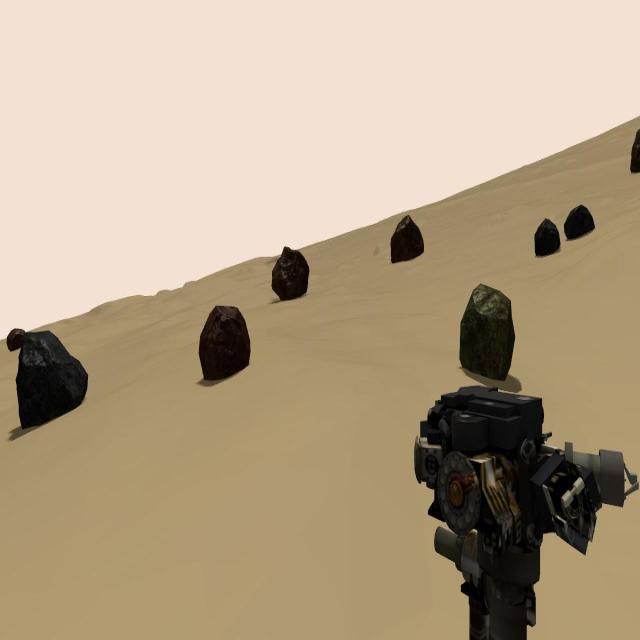rock: (16, 330, 88, 429), (459, 282, 516, 381), (200, 305, 252, 381), (272, 246, 310, 302), (390, 214, 424, 264), (564, 204, 596, 240), (535, 218, 561, 258), (629, 126, 640, 173), (6, 328, 25, 352)
